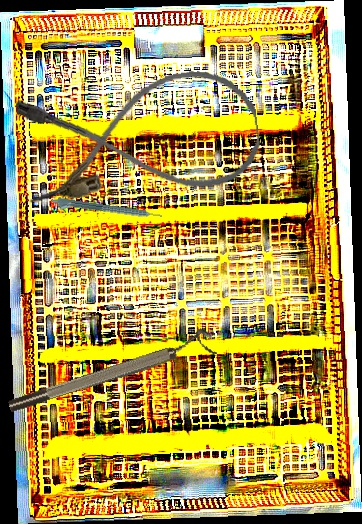Cannula: (14, 63, 265, 210)
Fixation Ring: (3, 325, 218, 417)
Handpiece: (50, 196, 163, 225)
